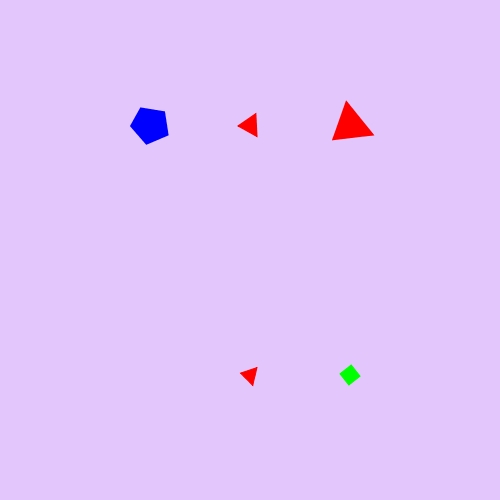pentagon: (128, 103, 173, 148)
quadrilateral: (335, 360, 365, 390)
triangle: (328, 101, 373, 149), (236, 110, 265, 141), (237, 362, 263, 389)
